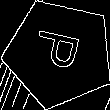P_E: (29, 29, 89, 77)
